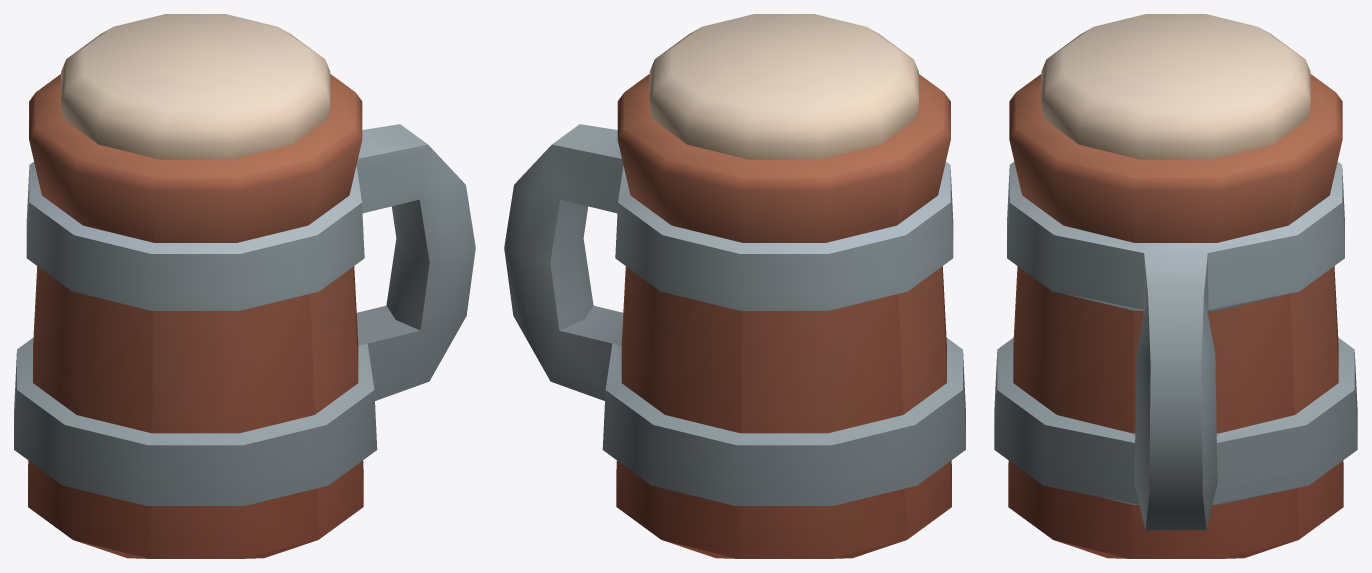
The model's file is mug.glb.
3 renders of one model, left to right at view 1: azimuth 30°, elevation 25°; view 2: azimuth 150°, elevation 25°; view 3: azimuth 270°, elevation 25°, orthographic.
Visible parts, largest first — view 1: mug_full; view 2: mug_full; view 3: mug_full.
Boxes of the visible parts, left/top/right/bottom form: mug_full: left=14, top=14, right=475, bottom=558; mug_full: left=504, top=14, right=965, bottom=558; mug_full: left=994, top=14, right=1357, bottom=558.
Size of the model in its own units: 0.5342 by 0.5484 by 0.396.
1 material, 1 textured.
